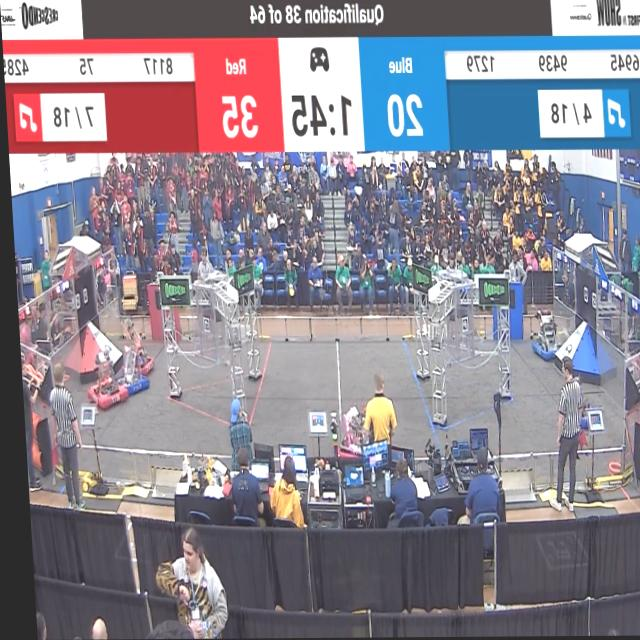Robot: (78, 331, 124, 413), (329, 399, 372, 464), (117, 314, 152, 379), (526, 306, 559, 364)
